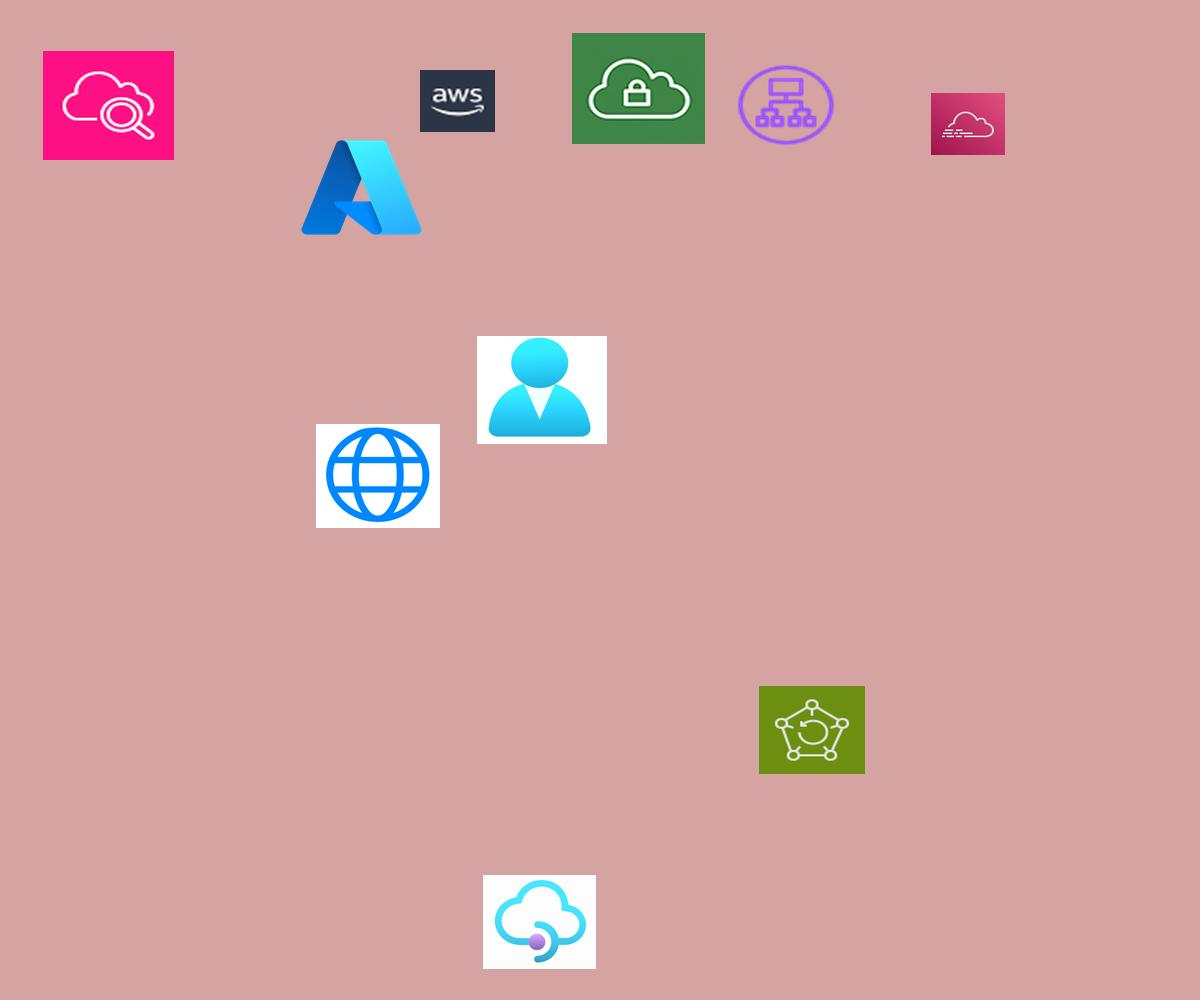AWS-Backup: (759, 686, 865, 774)
AWS-Cloud-logo: (420, 70, 495, 132)
AWS-CloudTrail: (931, 93, 1005, 155)
AWS-CloudWatch: (43, 51, 174, 160)
AWS-Private_vpc: (572, 33, 705, 144)
AWS-Res_Elastic-Load-Balancing_Application-Load-Balancer: (734, 62, 838, 148)
Azure_api_gateway: (483, 875, 596, 969)
Azure_http: (316, 424, 440, 528)
Azure_services: (296, 133, 427, 242)
Azure_users: (477, 336, 607, 444)
